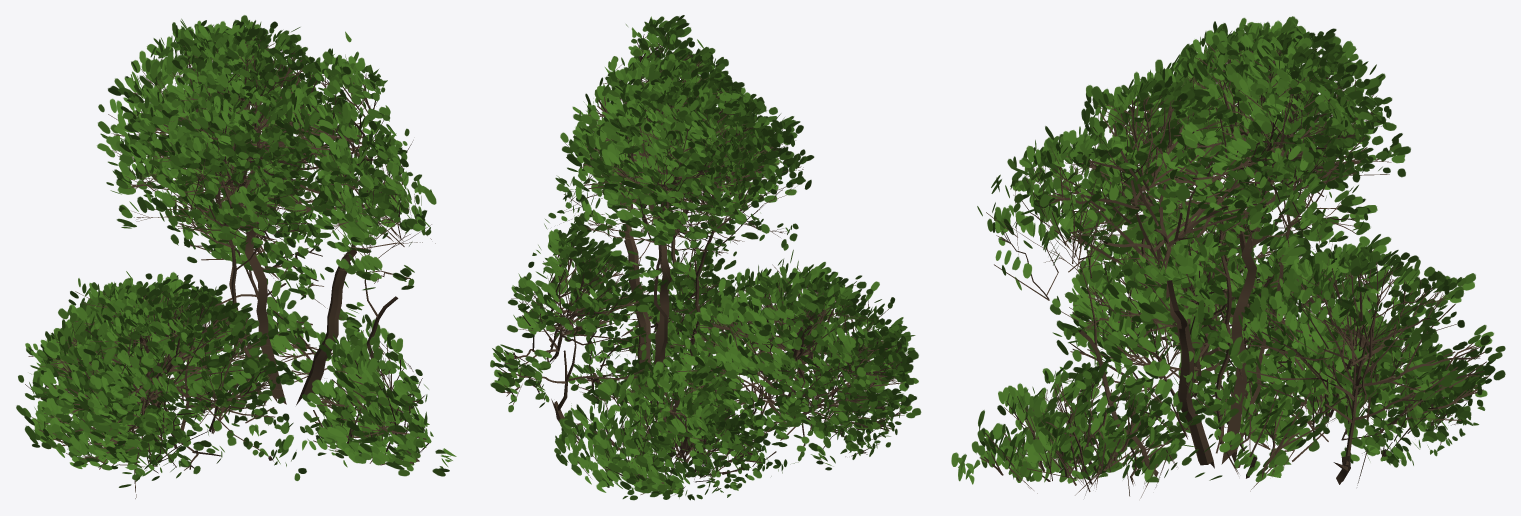
The picture shows the model from 3 angles, left to right: view 1: azimuth 30°, elevation 25°; view 2: azimuth 150°, elevation 25°; view 3: azimuth 270°, elevation 25°; orthographic projection. The views are drawn at different scales.
Parts seen in each view (by area): view 1: oak 01.001_trunk_Mat.001_0.483; view 2: oak 01.001_trunk_Mat.001_0.483; view 3: oak 01.001_trunk_Mat.001_0.483.
Part boxes in pixels (left/top/right/bottom): oak 01.001_trunk_Mat.001_0.483: left=16, top=15, right=456, bottom=498; oak 01.001_trunk_Mat.001_0.483: left=490, top=15, right=921, bottom=500; oak 01.001_trunk_Mat.001_0.483: left=951, top=16, right=1505, bottom=498.
Size of the model in its own units: 3.08 by 3.47 by 4.01.
2 materials, 1 textured.
